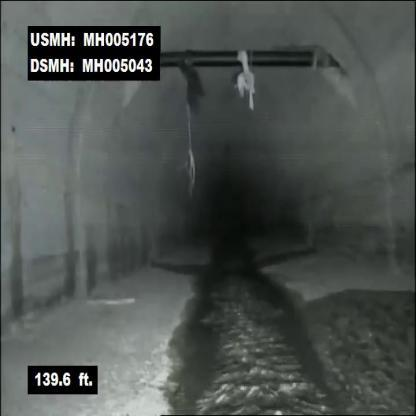utits: (160, 16, 354, 105)
